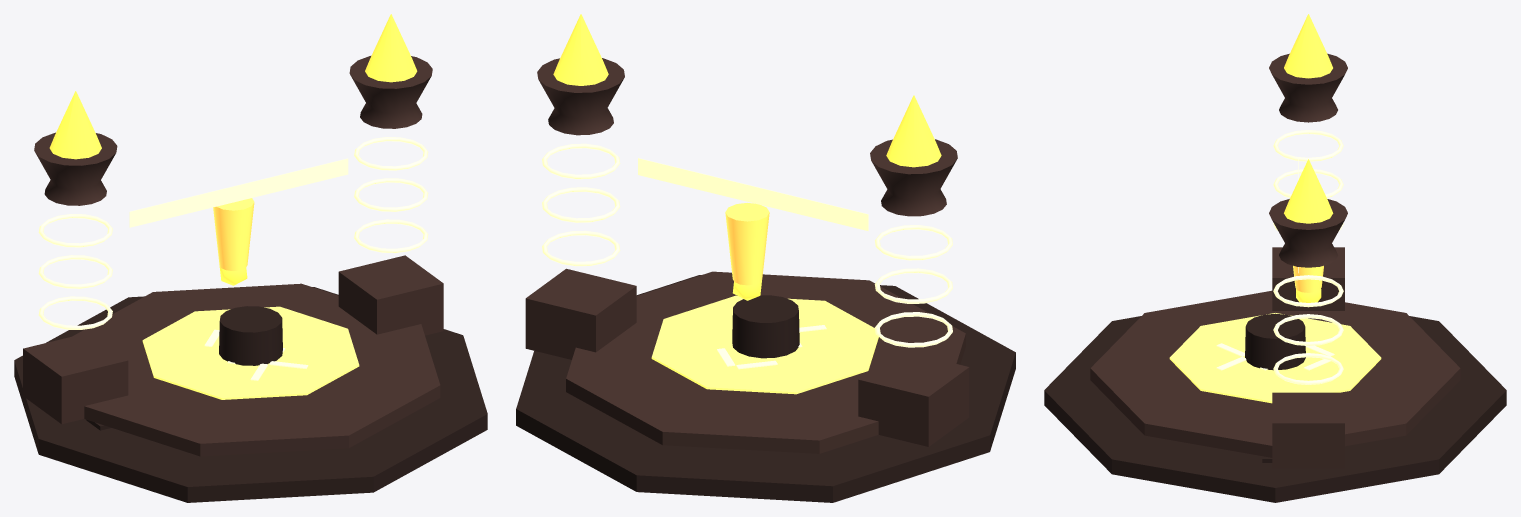
File: RocketBoostPad_Roblox.fbx
The picture shows the model from 3 angles, left to right: view 1: azimuth 30°, elevation 25°; view 2: azimuth 150°, elevation 25°; view 3: azimuth 270°, elevation 25°; orthographic projection. The views are drawn at different scales.
Parts seen in each view (by area): view 1: TrimPlate, DarkPlate, BoostPad, AccentNeon, EnergyGlow, EnergyGlass; view 2: TrimPlate, DarkPlate, BoostPad, AccentNeon, EnergyGlow, EnergyGlass; view 3: TrimPlate, DarkPlate, BoostPad, AccentNeon, EnergyGlow, EnergyGlass.
Part boxes in pixels (<box>): TrimPlate: <box>23,56,443,456</box>; DarkPlate: <box>14,287,487,502</box>; BoostPad: <box>142,306,359,399</box>; AccentNeon: <box>38,137,428,380</box>; EnergyGlow: <box>49,14,417,285</box>; EnergyGlass: <box>213,198,254,270</box>; TrimPlate: <box>525,58,969,453</box>; DarkPlate: <box>516,275,1015,502</box>; BoostPad: <box>651,295,878,394</box>; AccentNeon: <box>542,143,952,369</box>; EnergyGlow: <box>553,14,941,300</box>; EnergyGlass: <box>725,203,769,285</box>; TrimPlate: <box>1090,53,1460,468</box>; DarkPlate: <box>1044,313,1506,502</box>; BoostPad: <box>1169,313,1381,403</box>; AccentNeon: <box>1216,130,1343,384</box>; EnergyGlow: <box>1284,14,1333,302</box>; EnergyGlass: <box>1293,265,1323,292</box>.
Size of the model in its own units: 1400 by 1260 by 1400.
